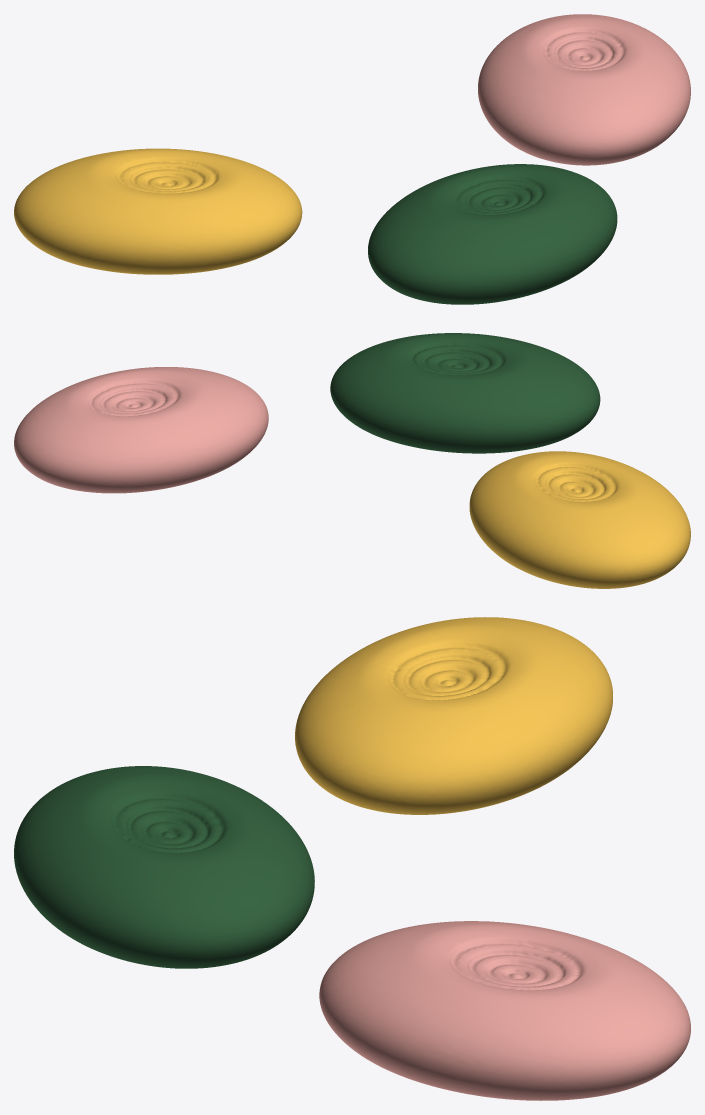
The model's file is thumb-stone.glb.
The picture shows the model from 3 angles, top to bottom: view 1: azimuth 30°, elevation 25°; view 2: azimuth 150°, elevation 25°; view 3: azimuth 270°, elevation 25°; orthographic projection. The views are drawn at different scales.
Visible parts, largest first — view 1: stone1, stone0, stone2; view 2: stone0, stone2, stone1; view 3: stone2, stone1, stone0.
Boxes of the visible parts, left/top/right/bottom form: stone1: left=14, top=148, right=302, bottom=274; stone0: left=368, top=164, right=617, bottom=304; stone2: left=478, top=14, right=690, bottom=165; stone0: left=330, top=333, right=600, bottom=453; stone2: left=14, top=367, right=268, bottom=493; stone1: left=469, top=451, right=690, bottom=588; stone2: left=319, top=921, right=690, bottom=1100; stone1: left=295, top=617, right=612, bottom=814; stone0: left=14, top=766, right=314, bottom=968.
Size of the model in its own units: 0.1221 by 0.0133 by 0.0795.
